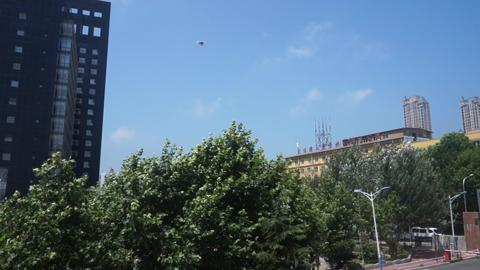UAV: (196, 40, 206, 46)
